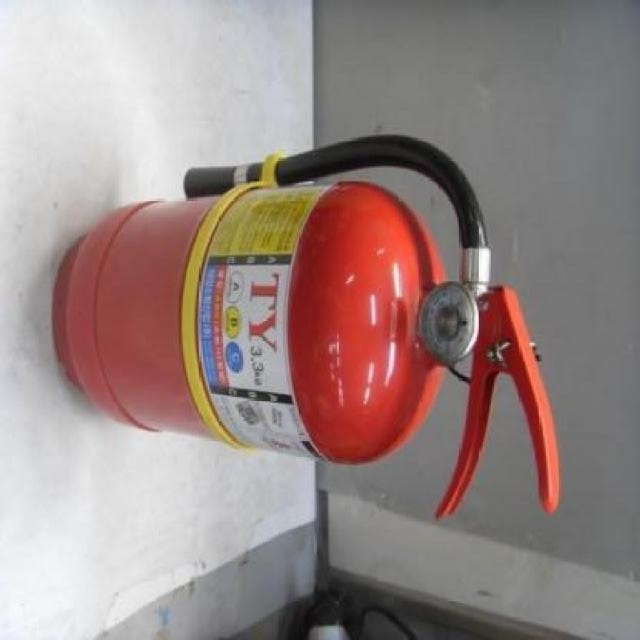fire extinguisher: (52, 133, 560, 519)
